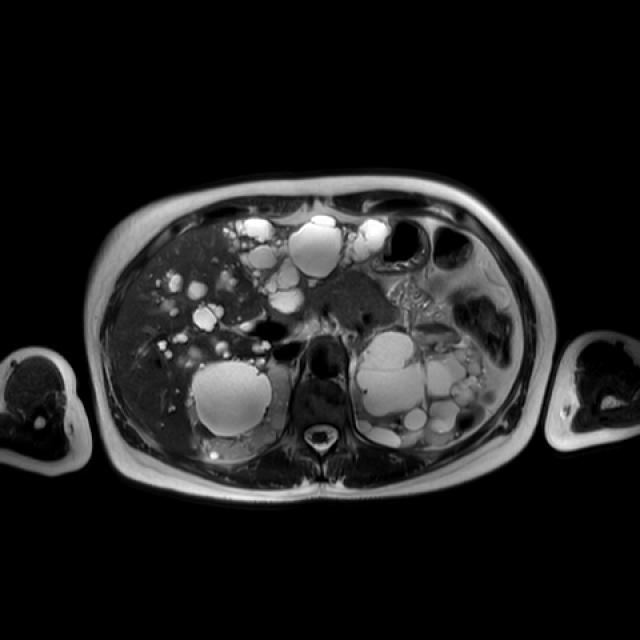sag: (187, 358, 291, 461)
sol: (354, 323, 497, 448)
